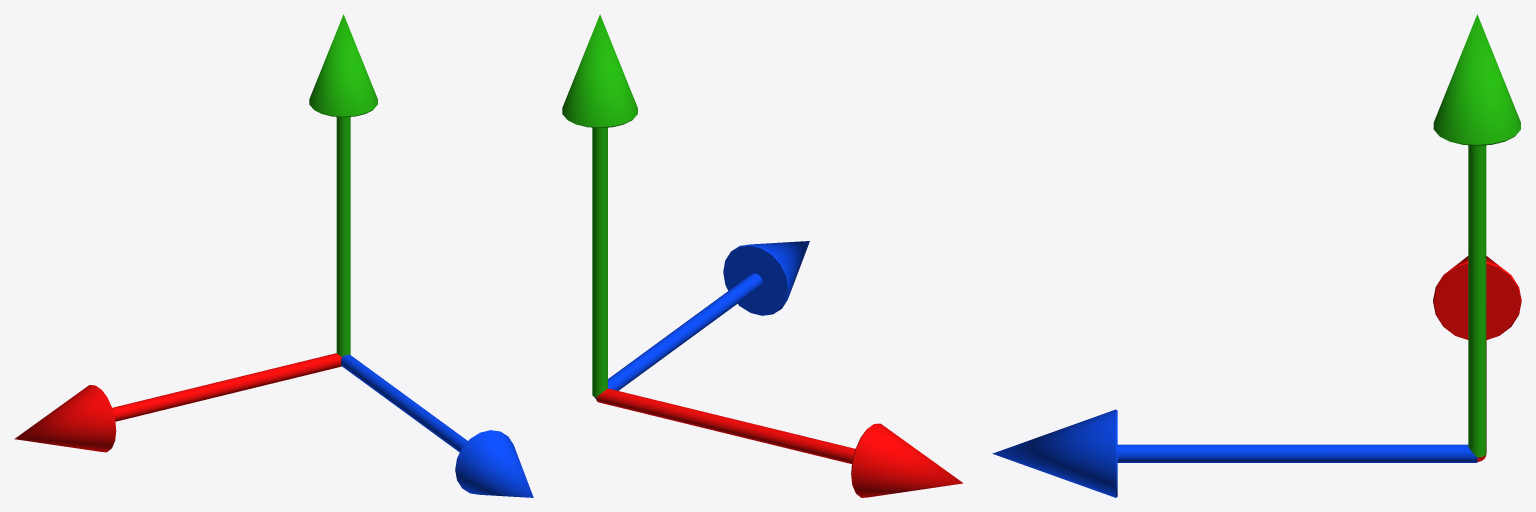
File: position.FBX
The picture shows the model from 3 angles, left to right: view 1: azimuth 30°, elevation 25°; view 2: azimuth 150°, elevation 25°; view 3: azimuth 270°, elevation 25°; orthographic projection. The views are drawn at different scales.
Parts seen in each view (by area): view 1: Cylinder001, Cylinder005, Cylinder004; view 2: Cylinder005, Cylinder001, Cylinder004; view 3: Cylinder004, Cylinder001, Cylinder005.
Part boxes in pixels (x1,y1,x2,y2): Cylinder001: (309,14,377,356); Cylinder005: (14,353,341,452); Cylinder004: (341,354,533,497); Cylinder005: (596,388,962,497); Cylinder001: (562,14,637,397); Cylinder004: (594,241,809,398); Cylinder004: (992,409,1477,497); Cylinder001: (1433,14,1520,457); Cylinder005: (1433,256,1521,461).
Bounding box in the file's own units: 72.26 × 72.17 × 72.26.
1 material, 1 textured.
